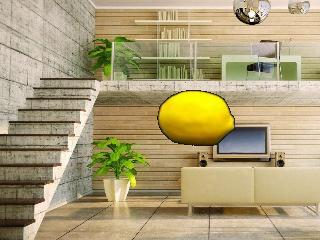lemon: (160, 91, 234, 145)
